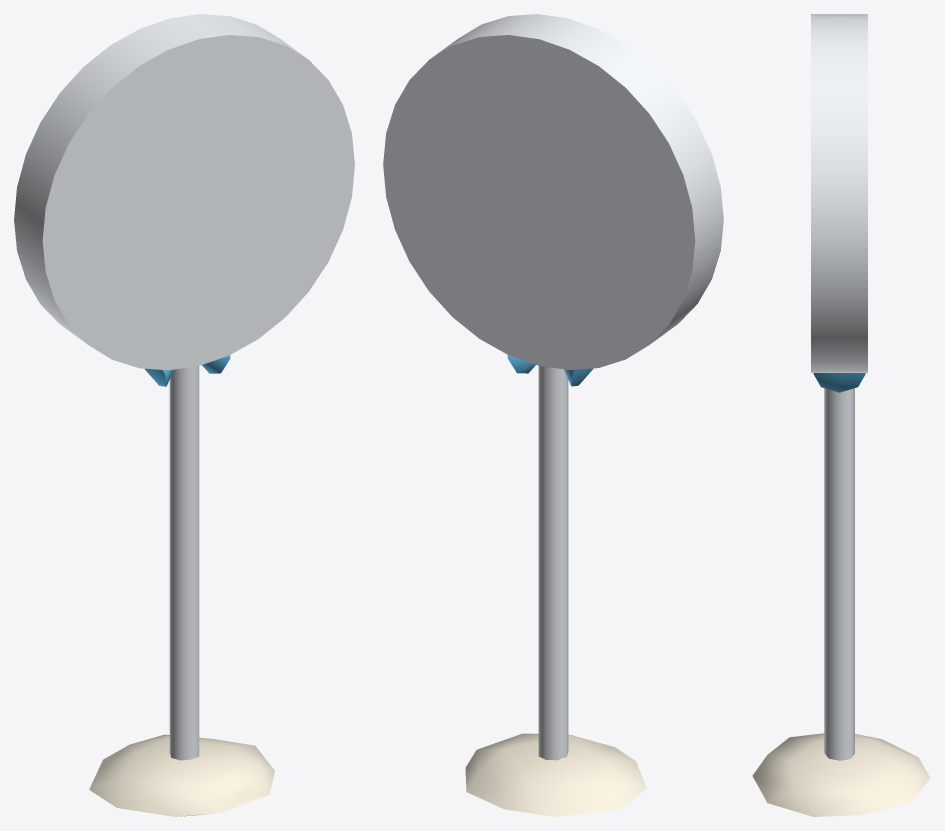
Rendered from LollipopA.fbx.
The picture shows the model from 3 angles, left to right: view 1: azimuth 30°, elevation 25°; view 2: azimuth 150°, elevation 25°; view 3: azimuth 270°, elevation 25°; orthographic projection.
Parts seen in each view (by area): view 1: LollipopA; view 2: LollipopA; view 3: LollipopA.
Part boxes in pixels (x1,y1,x2,y2): LollipopA: (14, 14, 354, 816); LollipopA: (383, 14, 723, 816); LollipopA: (752, 14, 930, 816).
Size of the model in its own units: 1.64 by 3.77 by 0.8133.
2 materials, 2 textured.
